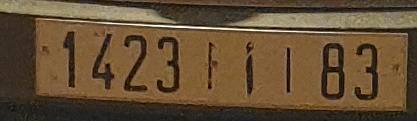1: (61, 29, 77, 89)
2: (122, 33, 149, 93)
3: (154, 35, 181, 95), (352, 42, 379, 102)
4: (89, 32, 116, 90)
8: (319, 42, 346, 101)
a: (242, 40, 256, 99)
